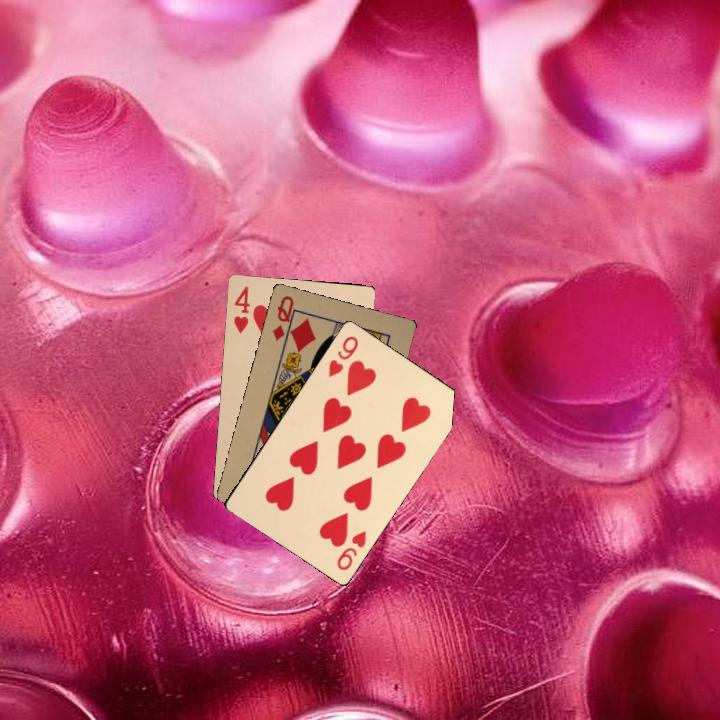4h: (230, 282, 253, 336)
9h: (324, 332, 361, 379), (333, 527, 369, 573)
Qd: (268, 291, 298, 349)
